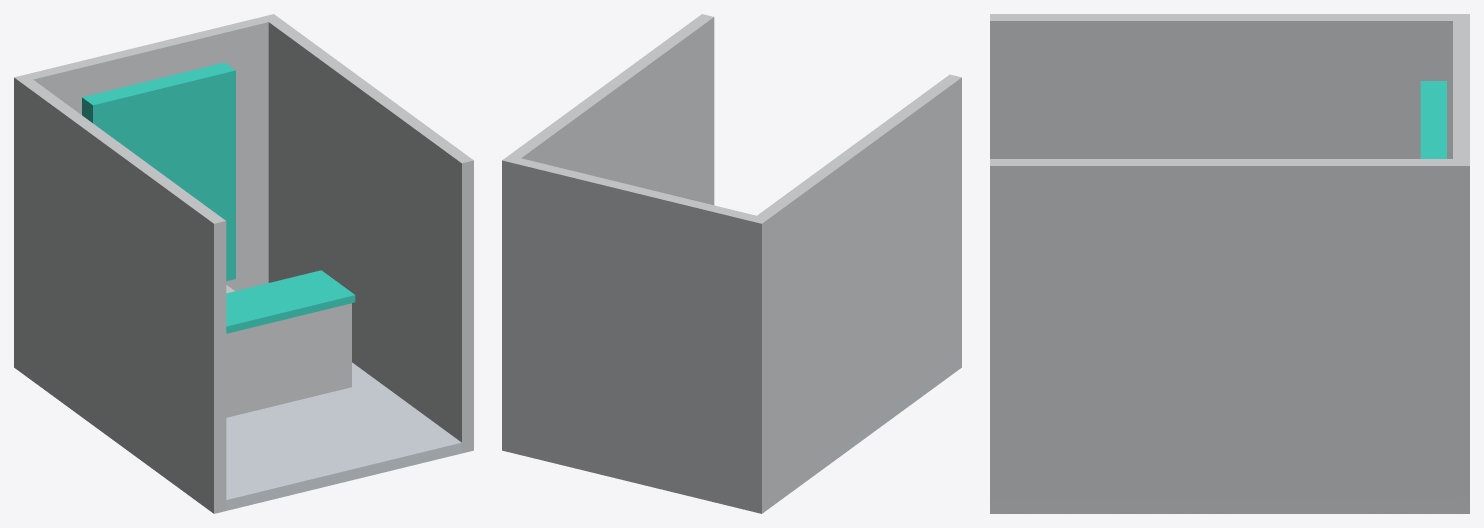
3 views of the same model, side by side, from view 1: azimuth 30°, elevation 25°; view 2: azimuth 150°, elevation 25°; view 3: azimuth 270°, elevation 25° (orthographic). The views are drawn at different scales.
Parts seen in each view (by area): view 1: Exhibition Booth Concept; view 2: Exhibition Booth Concept; view 3: Exhibition Booth Concept.
Boxes of the visible parts, x1,y1,x2,y2 form: Exhibition Booth Concept: (14,14,473,513); Exhibition Booth Concept: (502,14,961,513); Exhibition Booth Concept: (990,14,1469,513).
Size of the model in its own units: 3 by 3.2 by 4.
